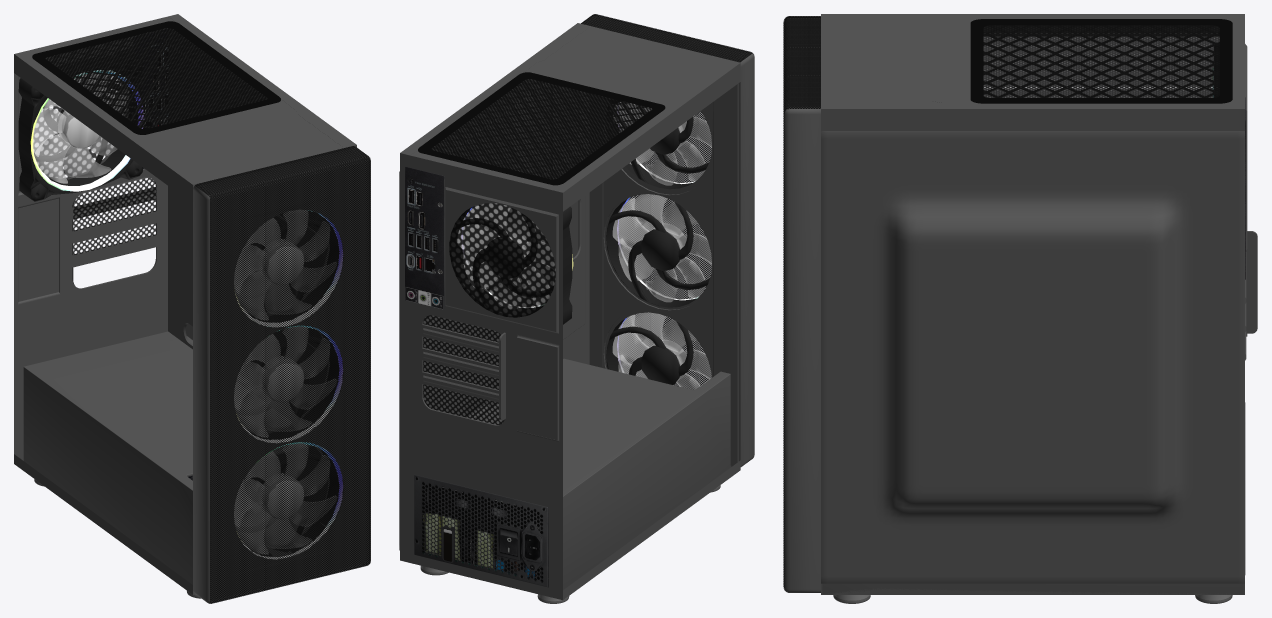
3 views of the same model, side by side, from view 1: azimuth 30°, elevation 25°; view 2: azimuth 150°, elevation 25°; view 3: azimuth 270°, elevation 25° (orthographic). The views are drawn at different scales.
Parts seen in each view (by area): view 1: front, case, front_fan_blocker, psu_cover, filter, FAN_Thermaltake_Blades.003, FAN_Thermaltake_Blades, FAN_Thermaltake_Blades.001, FAN_Thermaltake_Blades.002, case-motherboard-plate, io, case-back-plate; view 2: case, psu_cover, front_fan_blocker, front, filter, case-motherboard-plate, psu, FAN_Thermaltake_Blades.001, FAN_Thermaltake_Blades.003, FAN_Thermaltake_Blades.002, io, FAN_Thermaltake_Blades (+2 smaller); view 3: case-back-plate, case, filter, front, psu_cover, front_fan_blocker, Cube.001.
Part boxes in pixels (x1,y1,x2,y2): front: (193, 146, 370, 603); case: (14, 14, 356, 594); front_fan_blocker: (197, 148, 369, 600); psu_cover: (23, 331, 312, 584); filter: (32, 21, 280, 134); FAN_Thermaltake_Blades.003: (18, 49, 143, 201); FAN_Thermaltake_Blades: (234, 210, 342, 327); FAN_Thermaltake_Blades.001: (234, 325, 342, 443); FAN_Thermaltake_Blades.002: (234, 442, 342, 559); case-motherboard-plate: (168, 28, 328, 516); io: (133, 29, 168, 169); case-back-plate: (185, 210, 325, 378); case: (400, 23, 740, 600); psu_cover: (467, 358, 731, 589); front_fan_blocker: (578, 16, 749, 465); front: (581, 14, 754, 466); filter: (418, 72, 665, 185); case-motherboard-plate: (423, 46, 589, 419); psu: (414, 475, 548, 587); FAN_Thermaltake_Blades.001: (606, 194, 711, 307); FAN_Thermaltake_Blades.003: (449, 203, 573, 324); FAN_Thermaltake_Blades.002: (606, 312, 711, 389); io: (405, 166, 444, 309); FAN_Thermaltake_Blades: (606, 99, 711, 189); case-back-plate: (821, 131, 1244, 583); case: (821, 14, 1247, 594); filter: (970, 19, 1232, 103); front: (783, 16, 820, 592); psu_cover: (822, 583, 1243, 594); front_fan_blocker: (787, 18, 820, 108); Cube.001: (1246, 231, 1257, 333).
Bounding box in the file's own units: 0.6167 × 1.36 × 1.17.
Materials: 12 (4 with a texture image).
